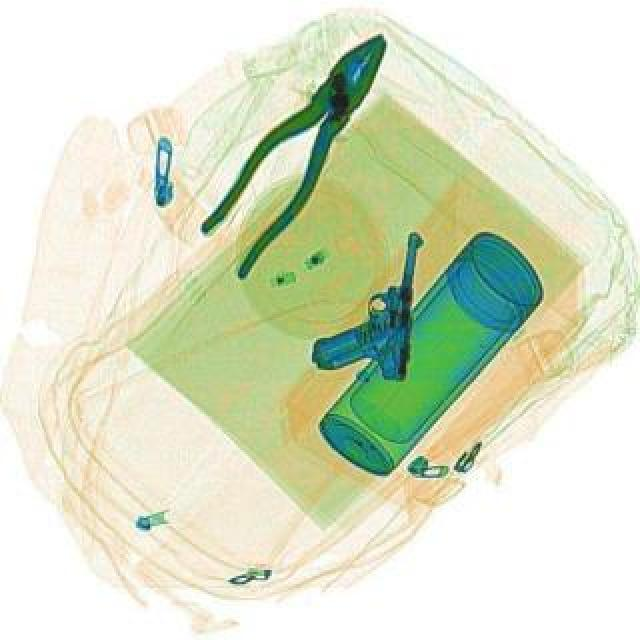gun: (308, 224, 422, 380)
wrench: (180, 14, 416, 280)
